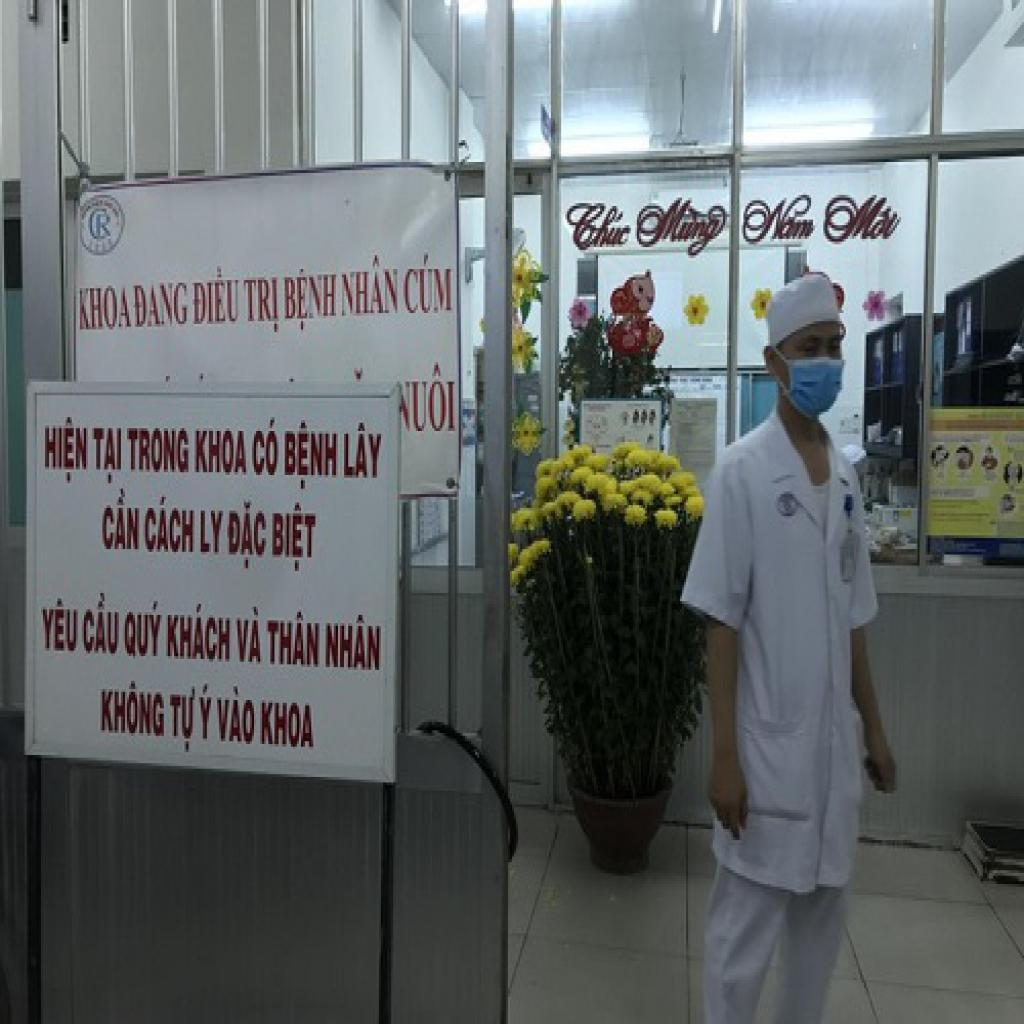text: (633, 195, 731, 261), (817, 190, 907, 252), (742, 192, 824, 253), (397, 362, 459, 440), (283, 417, 342, 494), (39, 406, 92, 489), (98, 678, 166, 741), (164, 602, 233, 664), (268, 500, 322, 579), (338, 255, 399, 324), (565, 195, 637, 252), (266, 606, 324, 672), (283, 266, 338, 335), (324, 610, 385, 672), (125, 422, 192, 478), (402, 252, 454, 316), (100, 483, 142, 560), (190, 264, 242, 326), (141, 497, 197, 554), (226, 497, 268, 571), (342, 417, 387, 486), (80, 590, 123, 662), (192, 426, 248, 480), (260, 700, 318, 750), (39, 596, 82, 662), (131, 280, 188, 329), (123, 598, 164, 662), (78, 286, 135, 332), (242, 274, 282, 338), (90, 414, 125, 486), (217, 686, 256, 747), (168, 684, 197, 755), (250, 414, 280, 480), (234, 604, 264, 670), (199, 505, 229, 557), (199, 681, 217, 747), (94, 214, 113, 239)
